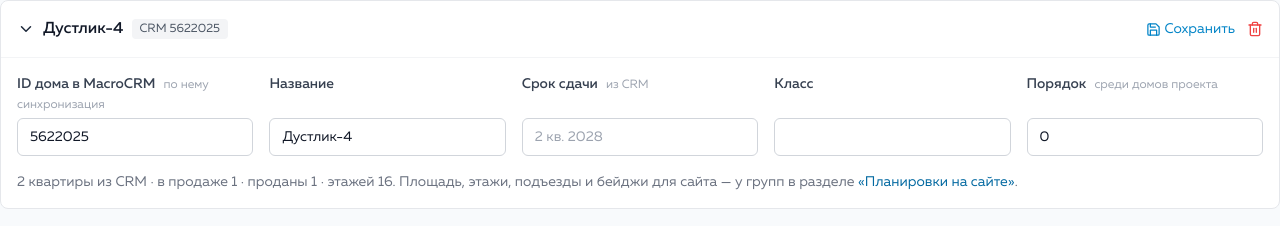
HouseCard › ошибка сохранения (занятый ID) видна в шапке
The image size is (1280, 226).
Click the button "Сохранить" at [1190, 29], box [1146,19,1235,39]
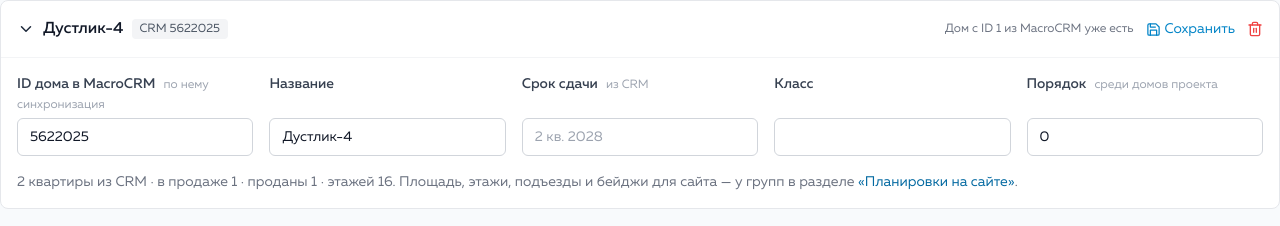
expect the text "Дом с ID 1 из MacroCRM уже есть" is shown: met, box [945,21,1134,37]
